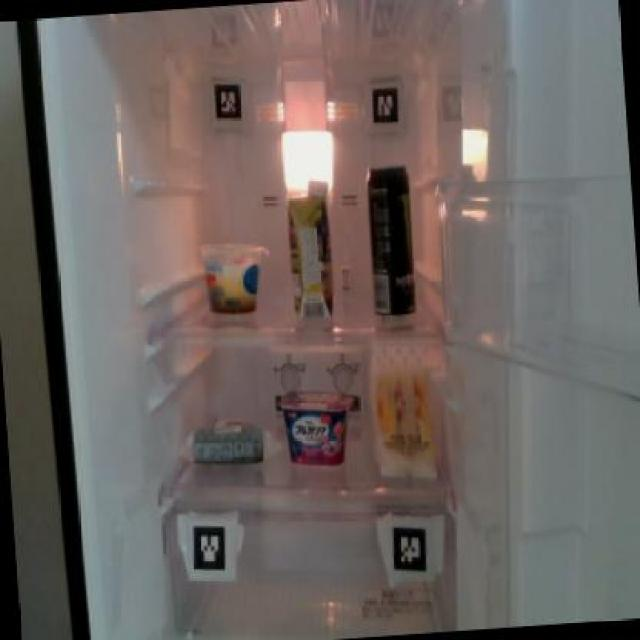energy_drink: (362, 158, 420, 318)
pudding: (198, 235, 267, 318)
rice_ball: (186, 409, 269, 473)
sandwich: (363, 340, 439, 486)
smoothie: (281, 177, 337, 323)
yogurt: (277, 386, 357, 472)
